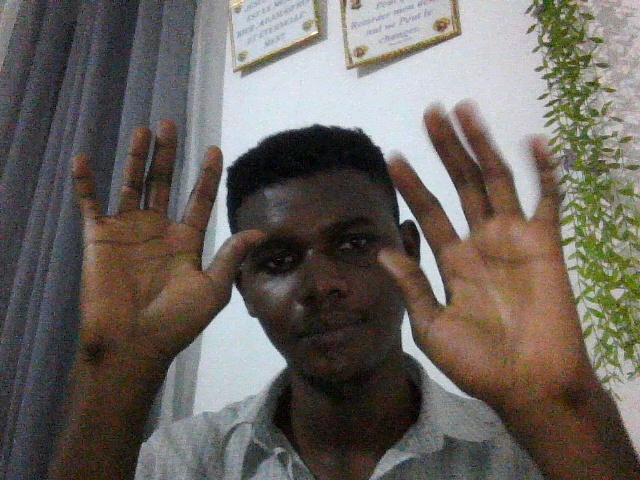hand: (53, 119, 268, 377)
